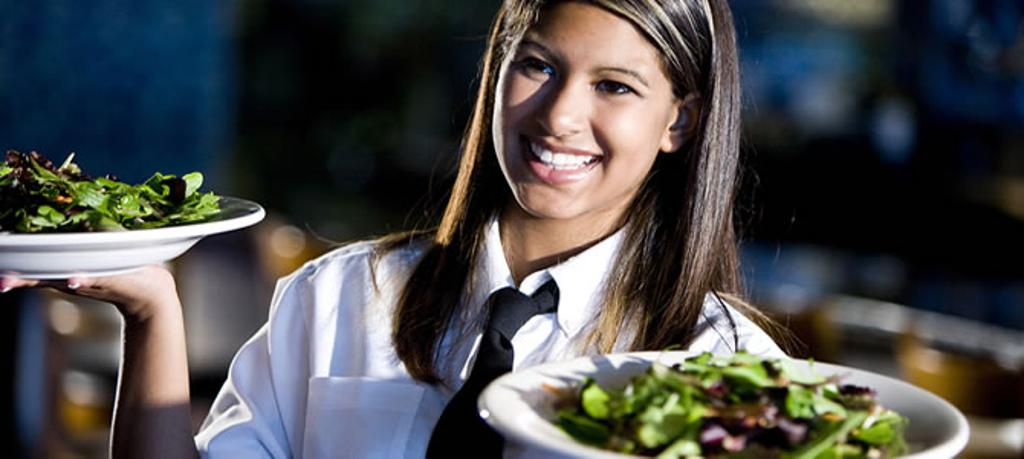face: (494, 12, 674, 216)
